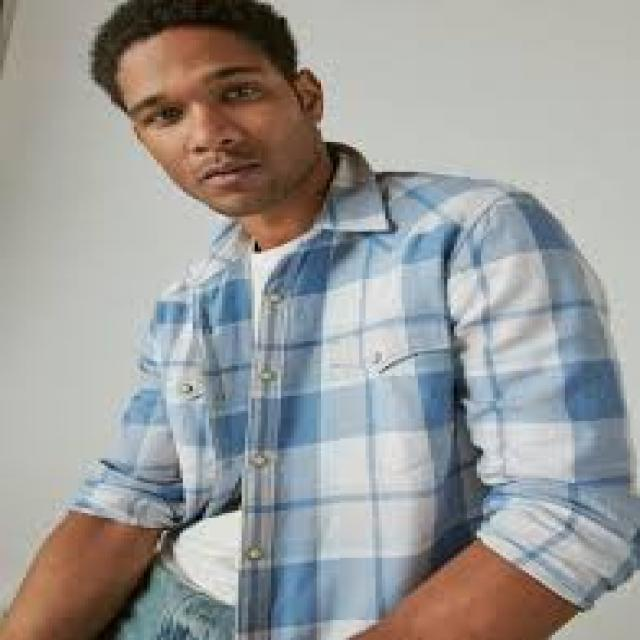plaid: (62, 192, 621, 600)
